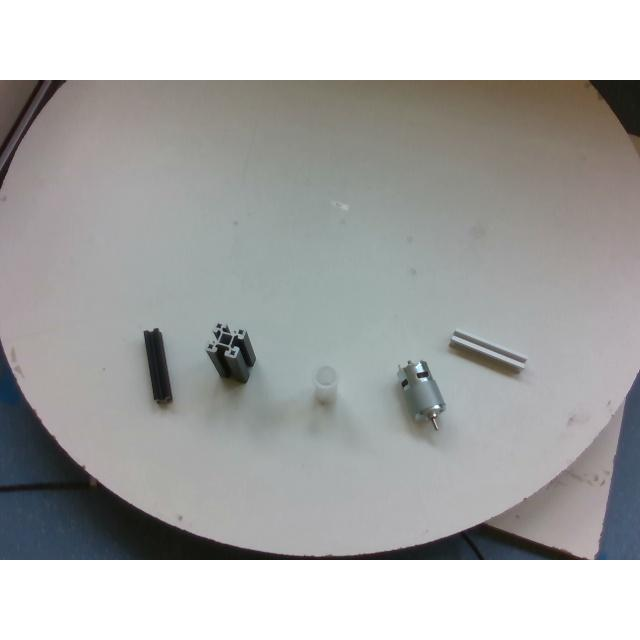F20_20_B: (144, 328, 172, 404)
F20_20_G: (450, 330, 526, 370)
Motor2: (398, 360, 446, 430)
S40_40_B: (206, 322, 254, 382)
Spacer: (313, 365, 337, 403)
